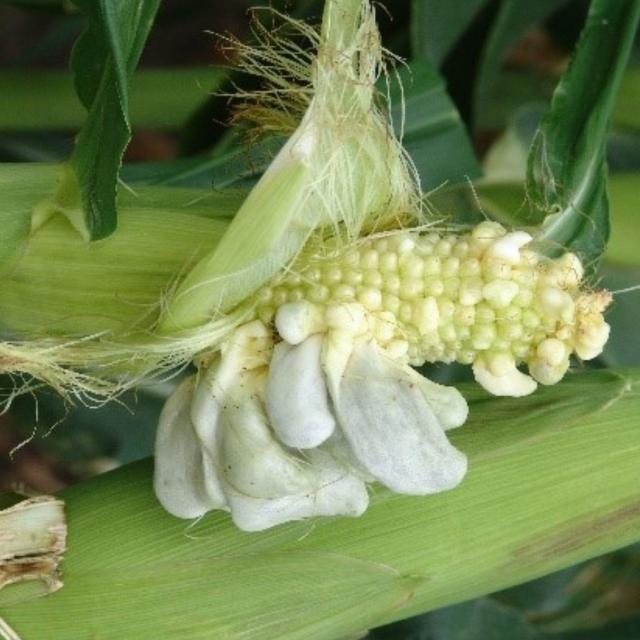Leaf_Scald: (125, 168, 602, 540)
